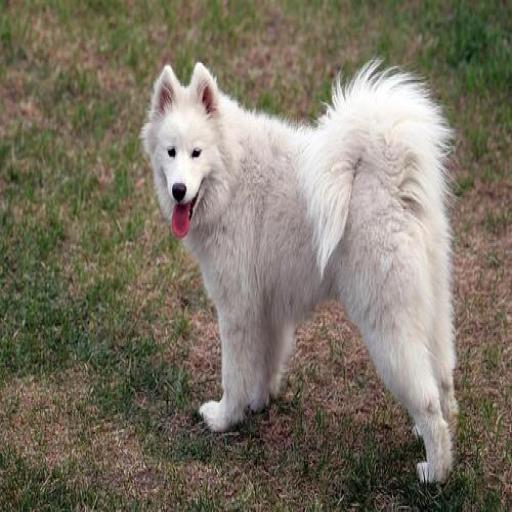dog_face: (144, 66, 220, 228)
